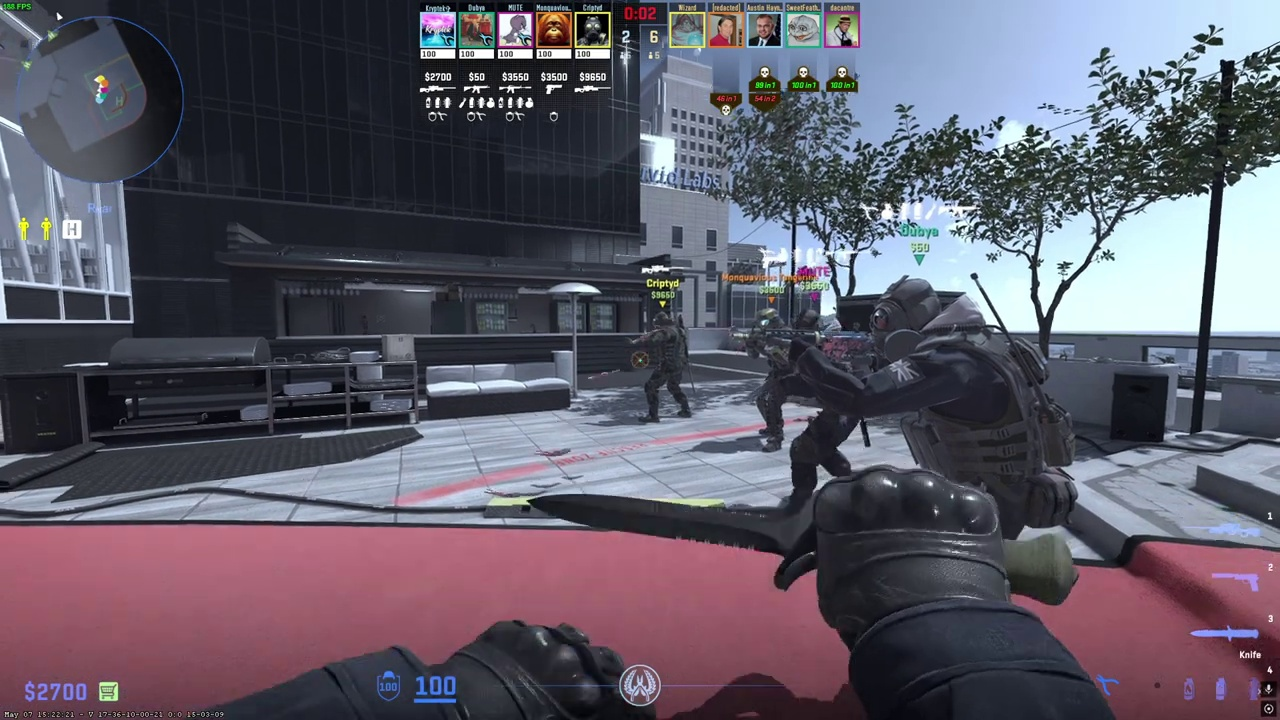CT: (870, 279, 1066, 570), (791, 309, 859, 487), (743, 305, 795, 450), (633, 310, 692, 424)
